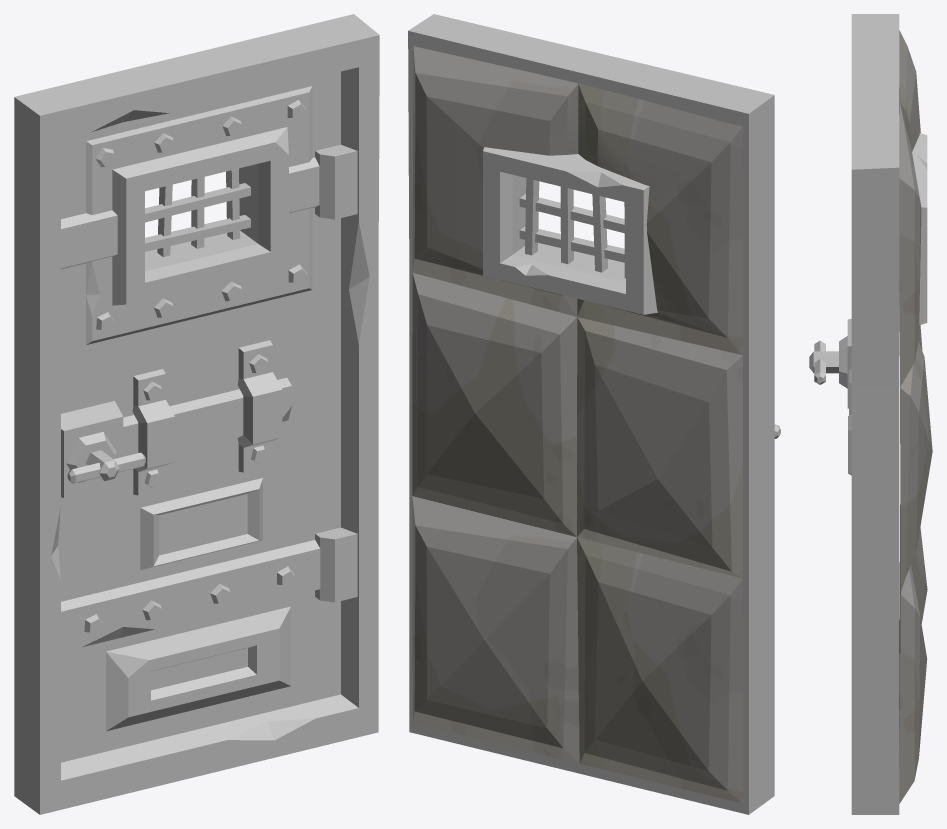
File: SM_Bld_Door_06.fbx
3 views of the same model, side by side, from view 1: azimuth 30°, elevation 25°; view 2: azimuth 150°, elevation 25°; view 3: azimuth 270°, elevation 25° (orthographic). The views are drawn at different scales.
Parts seen in each view (by area): view 1: SM_Bld_Door_06; view 2: SM_Bld_Door_06; view 3: SM_Bld_Door_06.
Boxes of the visible parts, x1,y1,x2,y2 form: SM_Bld_Door_06: [14, 14, 379, 814]; SM_Bld_Door_06: [408, 14, 780, 814]; SM_Bld_Door_06: [809, 14, 932, 814].
Size of the model in its own units: 100 by 197 by 34.01.
